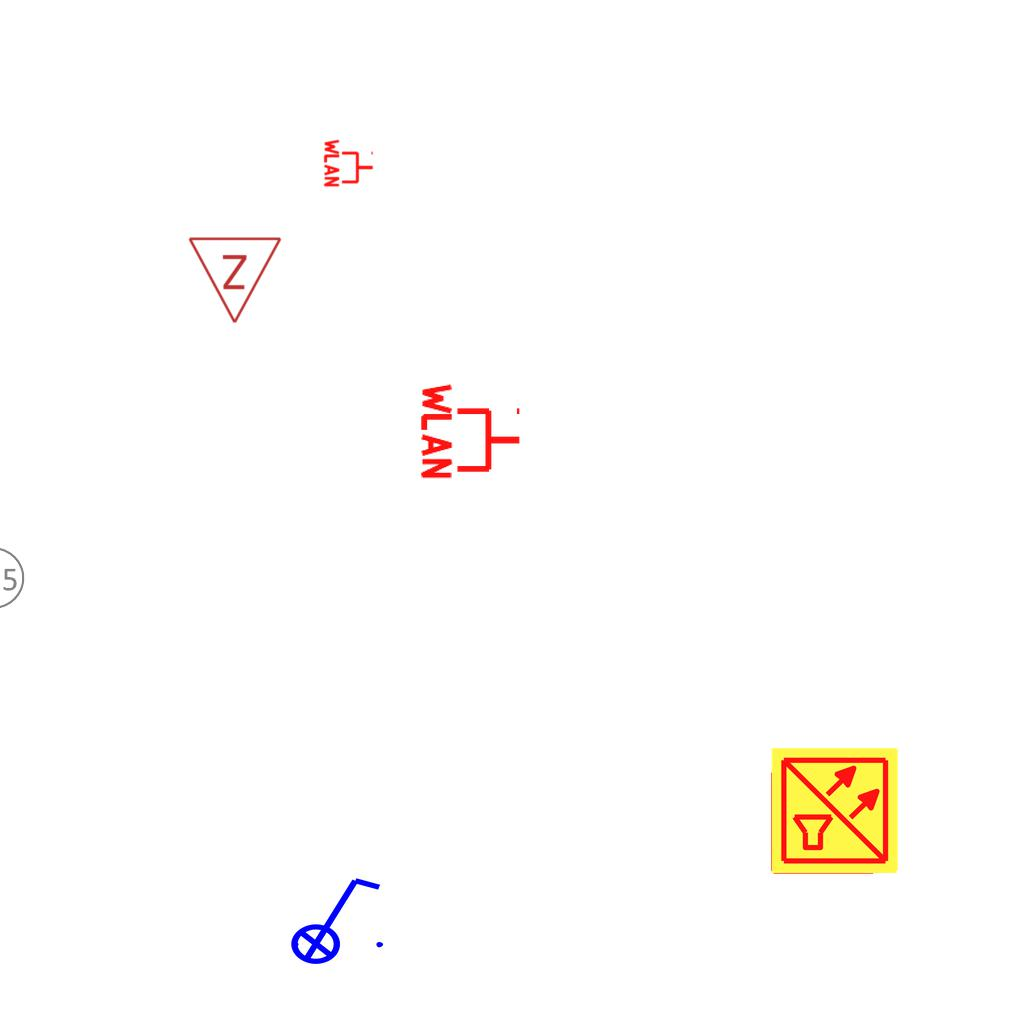Ausschalter_beleuchtet: (277, 870, 389, 966)
OKW_Multisensormelder_(Kombination_optischer_Rauch-Kahlenmonoxid_Waerme-Melder): (769, 745, 901, 877)
WLAN: (419, 379, 524, 483), (323, 137, 375, 189)
Zimmersignalleuchte: (187, 230, 285, 330)
